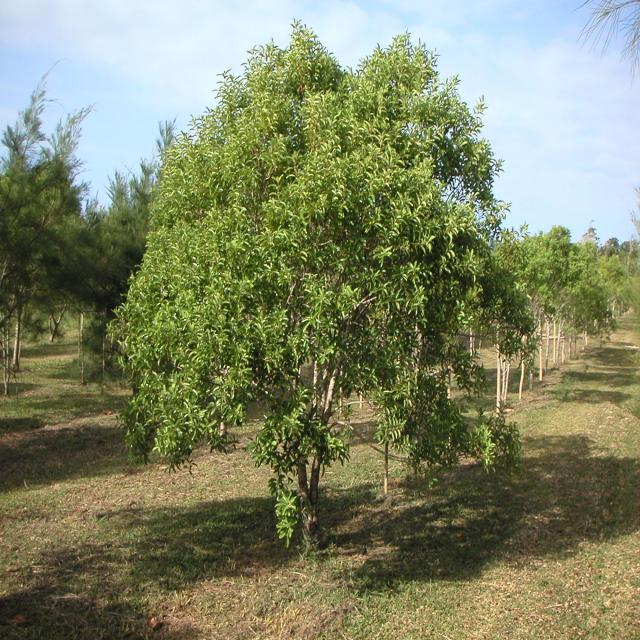Medicinal-Sandalwood: (107, 2, 521, 561)
